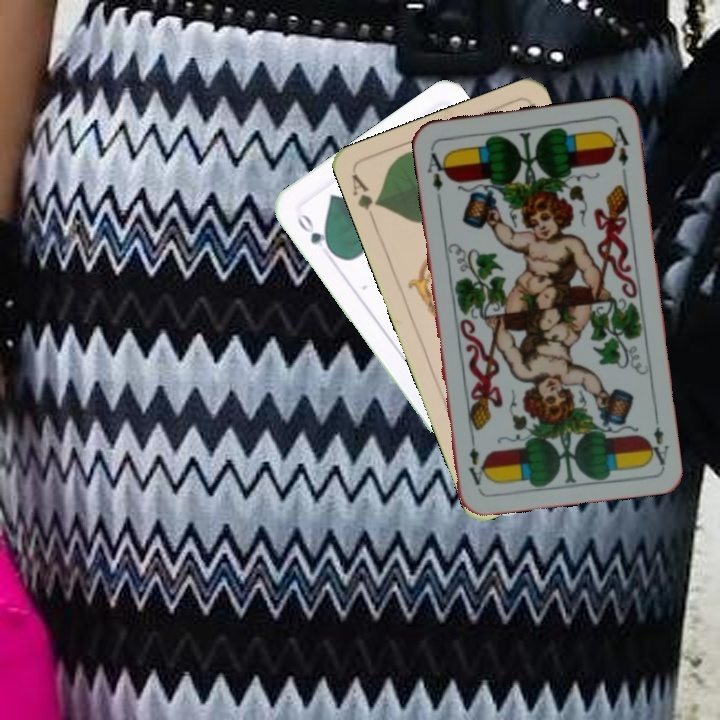EA: (643, 409, 672, 468), (423, 144, 451, 203)
GA: (346, 169, 384, 226)
GO: (292, 208, 336, 257)
